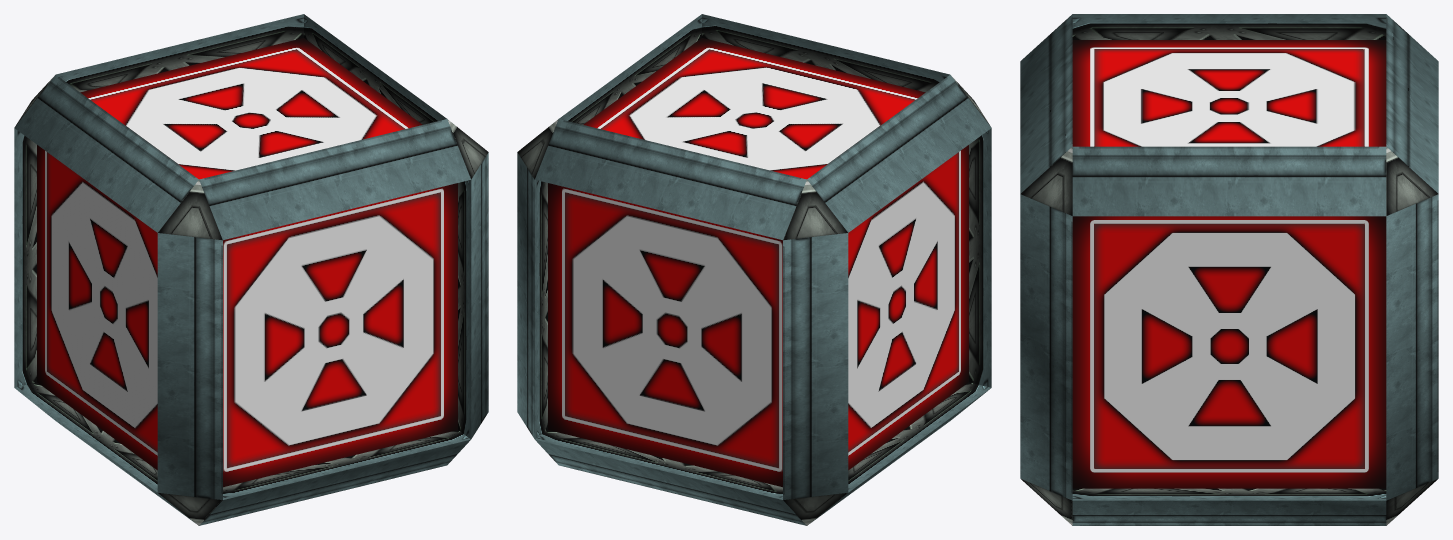
Rendered from apspec00.FBX.
3 renders of one model, left to right at view 1: azimuth 30°, elevation 25°; view 2: azimuth 150°, elevation 25°; view 3: azimuth 270°, elevation 25°, orthographic. The views are drawn at different scales.
Visible parts, largest first — view 1: apspec00__e; view 2: apspec00__e; view 3: apspec00__e.
Boxes of the visible parts, x1,y1,x2,y2 form: apspec00__e: [14, 14, 488, 525]; apspec00__e: [517, 14, 991, 525]; apspec00__e: [1020, 14, 1438, 525].
Bounding box in the file's own units: 1.97 × 1.97 × 1.97.
